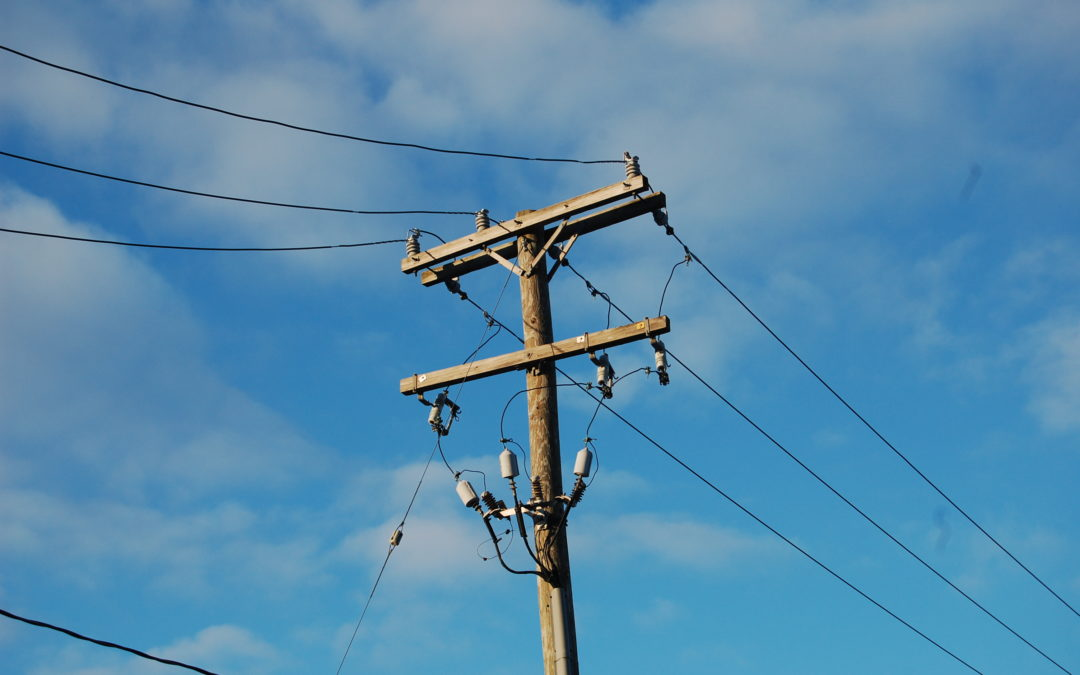utility_pole: (377, 139, 697, 590)
